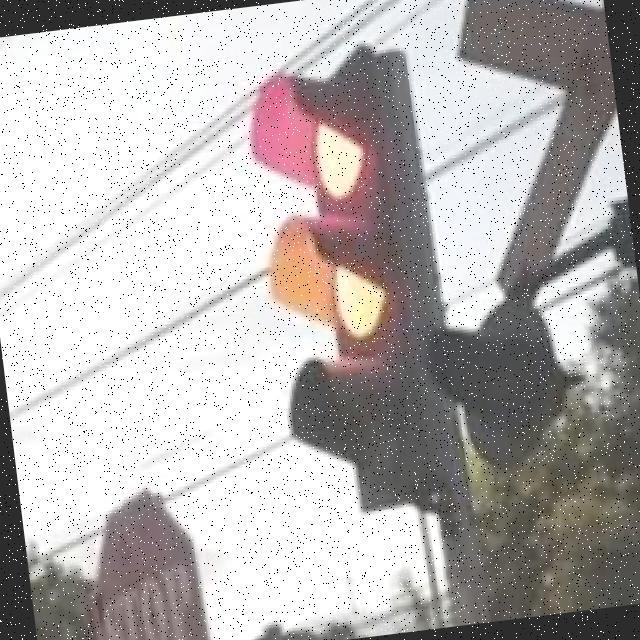Zolte swiatlo: (238, 42, 454, 514)
